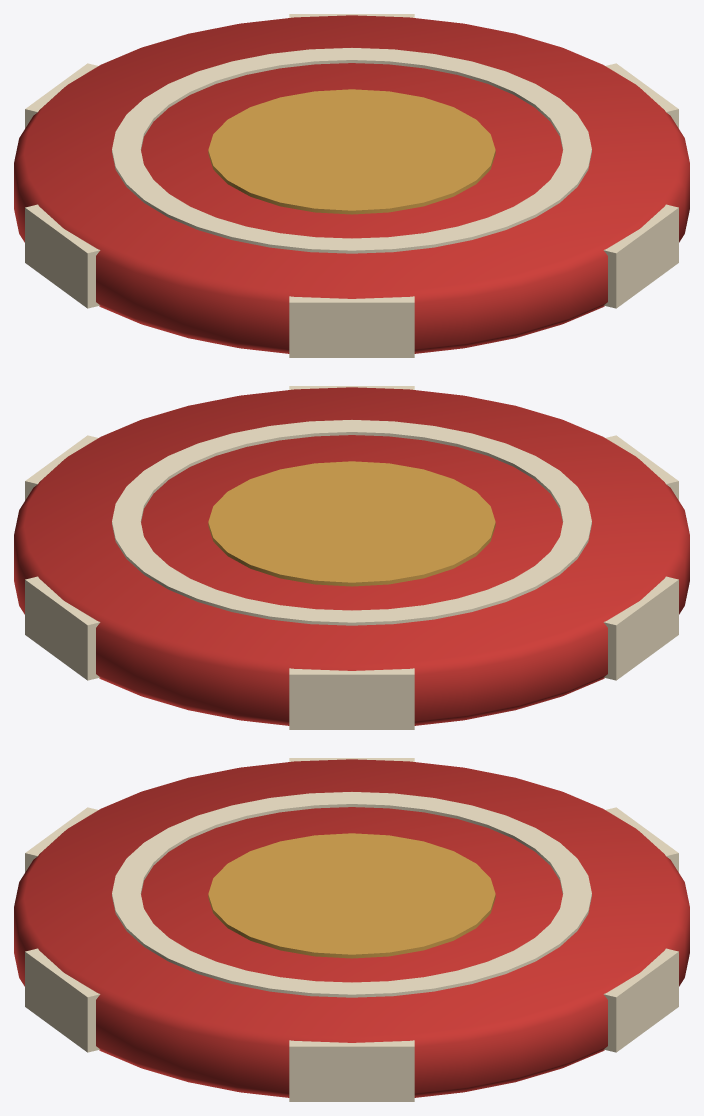
The model's file is poker_chip.glb.
The picture shows the model from 3 angles, top to bottom: view 1: azimuth 30°, elevation 25°; view 2: azimuth 150°, elevation 25°; view 3: azimuth 270°, elevation 25°; orthographic projection.
Visible parts, largest first — view 1: PokerChip; view 2: PokerChip; view 3: PokerChip.
Boxes of the visible parts, x1=… form: PokerChip: x1=14, y1=14, x2=689, y2=357; PokerChip: x1=14, y1=386, x2=689, y2=729; PokerChip: x1=14, y1=758, x2=689, y2=1101.
Size of the model in its own units: 0.0404 by 0.0048 by 0.04.
